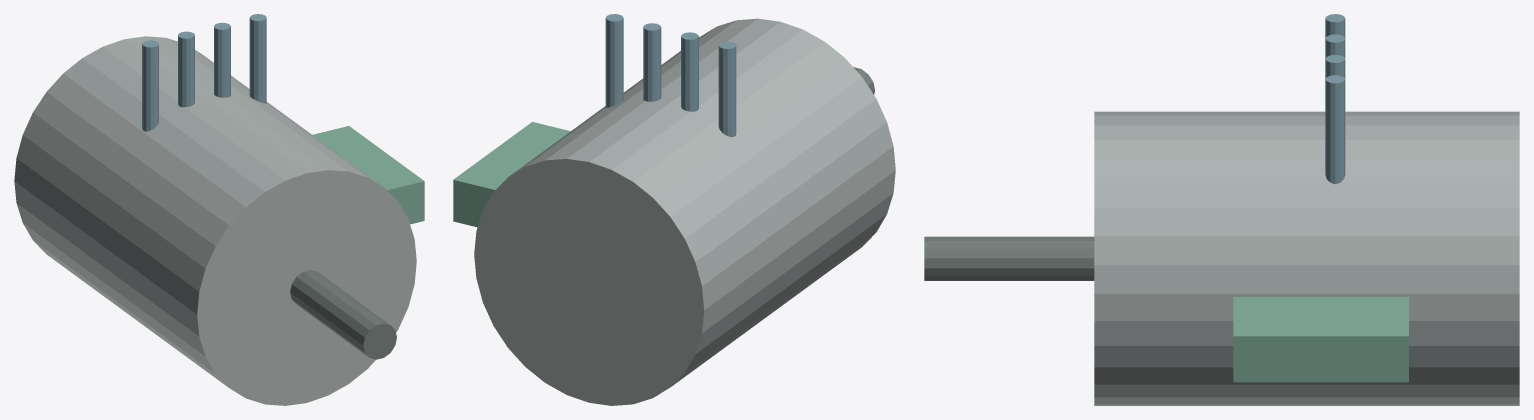
Rendered from pasteurizer-high.glb.
The picture shows the model from 3 angles, left to right: view 1: azimuth 30°, elevation 25°; view 2: azimuth 150°, elevation 25°; view 3: azimuth 270°, elevation 25°; orthographic projection. The views are drawn at different scales.
Parts seen in each view (by area): view 1: tank, top-pipe, panel, pipe-3, pipe-0, pipe-1, pipe-2; view 2: tank, panel, pipe-0, pipe-3, pipe-2, pipe-1; view 3: tank, panel, top-pipe, pipe-3.
Boxes of the visible parts, box(x1,y1,x2,y2) form: tank: box(14, 36, 416, 405); top-pipe: box(290, 270, 396, 359); panel: box(312, 126, 424, 224); pipe-3: box(249, 14, 266, 103); pipe-0: box(142, 40, 158, 131); pipe-1: box(178, 31, 194, 107); pipe-2: box(214, 22, 230, 97); tank: box(474, 18, 895, 405); panel: box(453, 122, 570, 227); pipe-0: box(718, 41, 736, 136); pipe-3: box(605, 14, 623, 107); pipe-2: box(643, 23, 661, 101); pipe-1: box(681, 32, 698, 111); tank: box(1094, 111, 1519, 405); panel: box(1233, 297, 1408, 382); top-pipe: box(924, 236, 1094, 280); pipe-3: box(1325, 75, 1345, 184).
Bounding box in the file's own units: 1.36 × 1.34 × 2.1.
